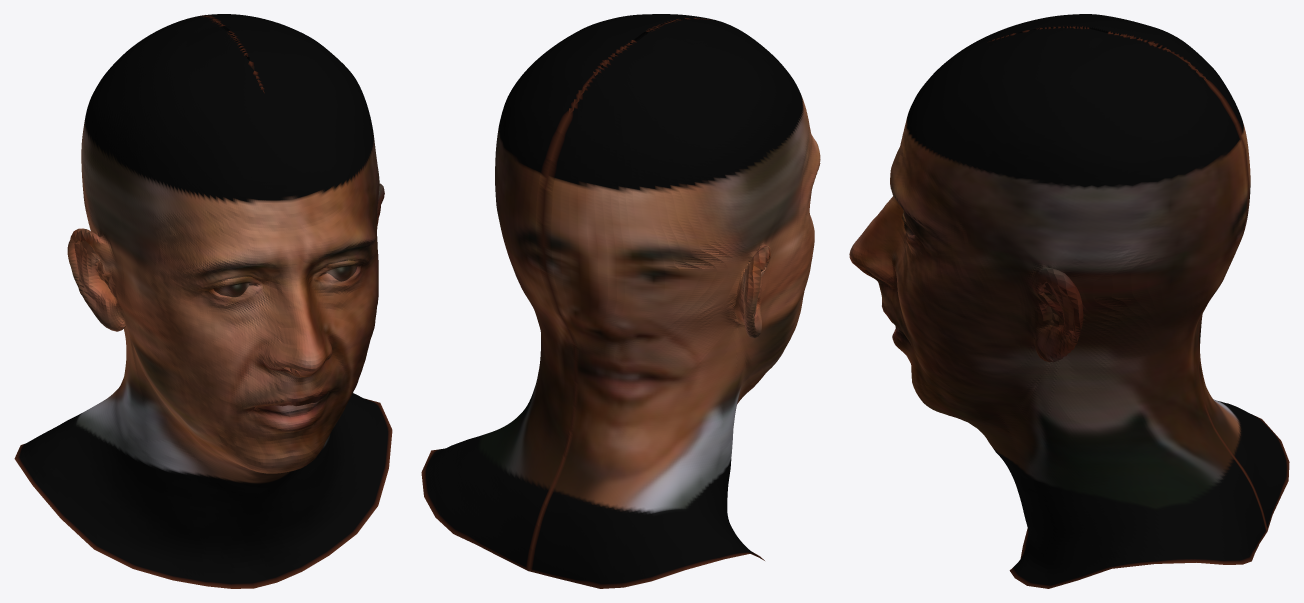
Rendered from mesh_coarse_detail.obj.
3 renders of one model, left to right at view 1: azimuth 30°, elevation 25°; view 2: azimuth 150°, elevation 25°; view 3: azimuth 270°, elevation 25°, orthographic.
Bounding box in the file's own units: 0.2141 × 0.3252 × 0.2418.
